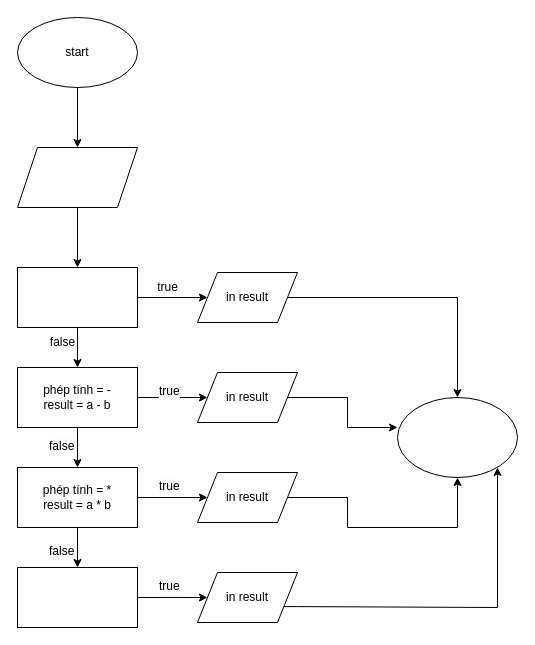
Some shapes in this 535 by 645 pixel diagram are drawn without their labels. The shapes that lost their labels are listed below. From the top down, each one's centre as x and y in pixels, then its label:
(77,177): nhập 2 số a và b và phép tính ( +, -, *, / )
(77,297): phép tính = + result = a + b
(457,437): end
(77,597): phép tính = / result = a / b
